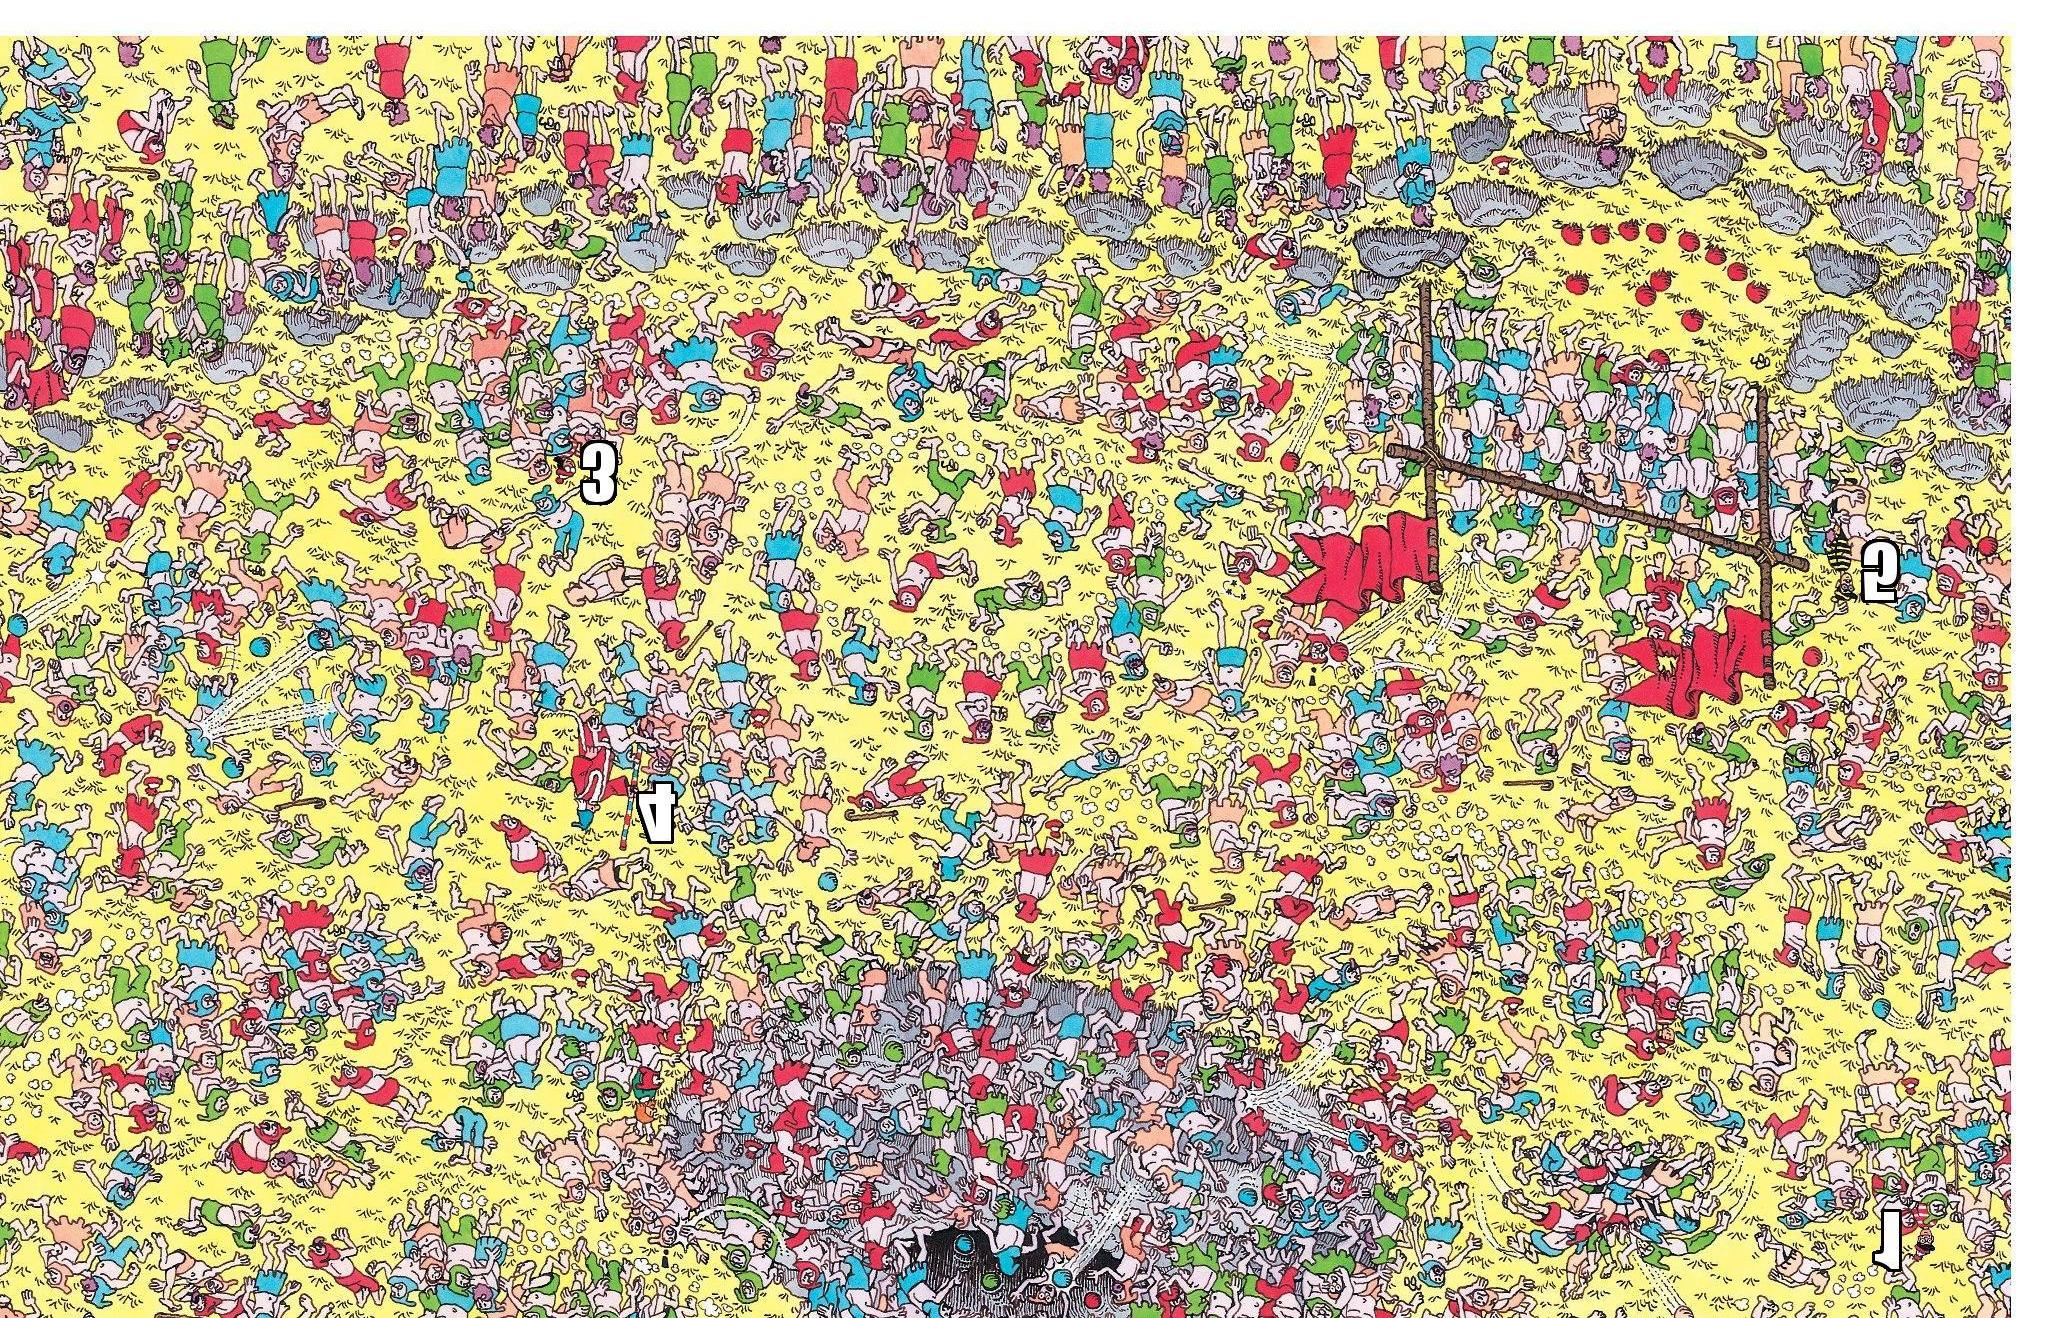waldos: (1911, 1205, 1944, 1263)
